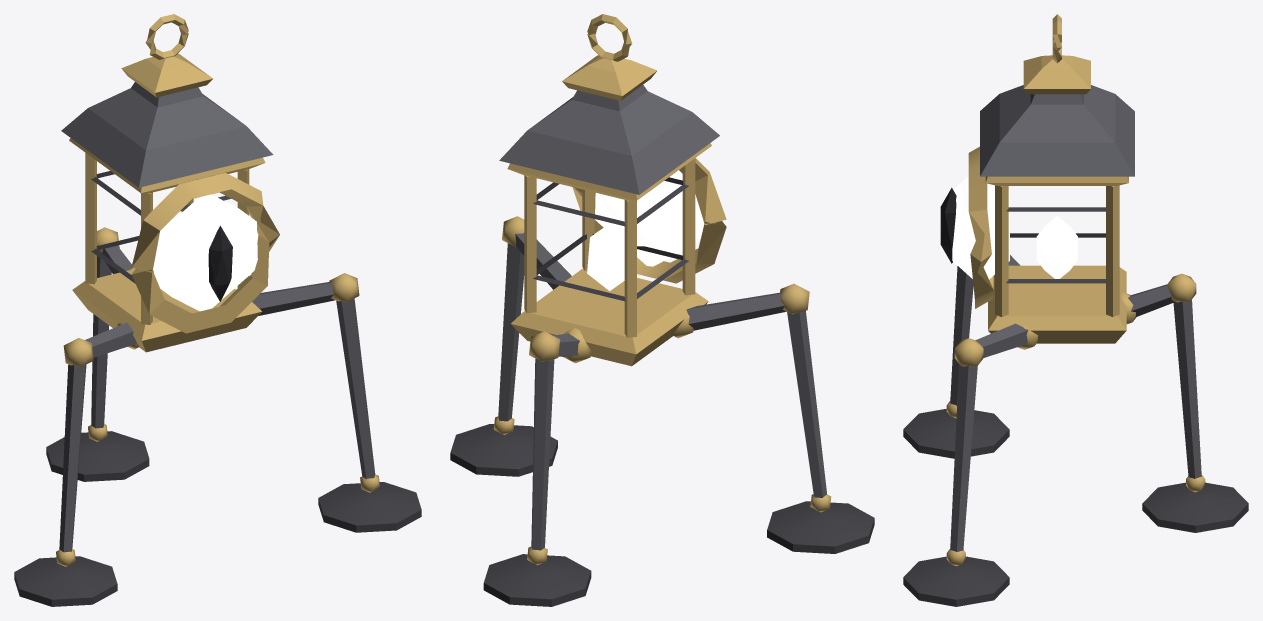
File: lantern-line-lamp.glb
3 renders of one model, left to right at view 1: azimuth 30°, elevation 25°; view 2: azimuth 150°, elevation 25°; view 3: azimuth 270°, elevation 25°, orthographic. The views are drawn at different scales.
Visible parts, largest first — view 1: lantern_line_lamp; view 2: lantern_line_lamp; view 3: lantern_line_lamp.
Part boxes in pixels (x1,y1,x2,y2): lantern_line_lamp: (14,14,421,606); lantern_line_lamp: (450,14,874,606); lantern_line_lamp: (903,14,1248,606).
Size of the model in its own units: 0.6568 by 0.7838 by 0.4976.
